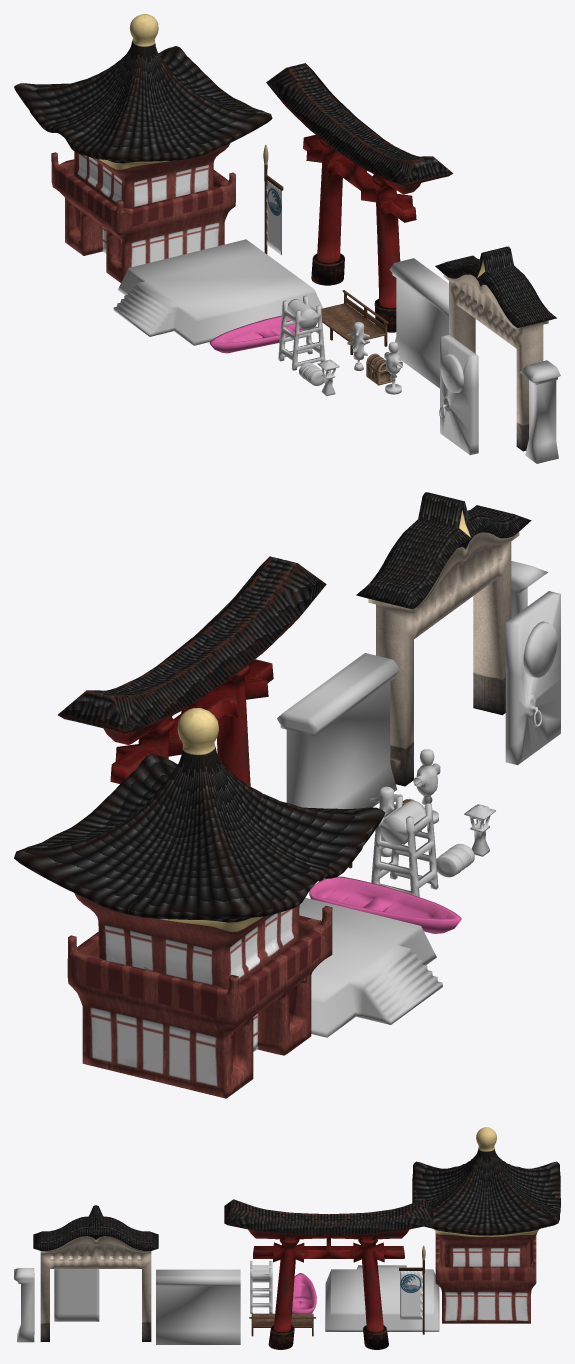
The model's file is EnvironmentProps.fbx.
The picture shows the model from 3 angles, top to bottom: view 1: azimuth 30°, elevation 25°; view 2: azimuth 150°, elevation 25°; view 3: azimuth 270°, elevation 25°; orthographic projection. The views are drawn at different scales.
Parts seen in each view (by area): view 1: Shrine_LOW, Torii_LOW, Arena_LOW, Portal_LOW, Wall_LOW, Door_LOW, WallCorner_LOW, Target_LOW, Group16081, Boat_LOW, Cylinder_LOW.001, Dummy_LOW (+2 smaller); view 2: Shrine_LOW, Portal_LOW, Torii_LOW, Wall_LOW, Arena_LOW, Door_LOW, Target_LOW, Boat_LOW, WallCorner_LOW, Dummy_LOW, HayBale_LOW, Lantern_LOW; view 3: Shrine_LOW, Torii_LOW, Portal_LOW, Wall_LOW, Arena_LOW, Door_LOW, Cylinder_LOW.001, WallCorner_LOW, Target_LOW, Boat_LOW, Group16081.
Part boxes in pixels (x1,y1,x2,y2): Shrine_LOW: [14, 14, 272, 282]; Torii_LOW: [266, 63, 452, 332]; Arena_LOW: [113, 239, 322, 345]; Portal_LOW: [435, 246, 556, 451]; Wall_LOW: [389, 258, 448, 388]; Door_LOW: [439, 334, 478, 455]; WallCorner_LOW: [519, 360, 560, 463]; Target_LOW: [278, 295, 325, 370]; Group16081: [321, 290, 388, 354]; Boat_LOW: [209, 315, 312, 353]; Cylinder_LOW.001: [263, 144, 283, 255]; Dummy_LOW: [384, 342, 402, 394]; Shrine_LOW: [14, 708, 385, 1098]; Portal_LOW: [356, 492, 531, 786]; Torii_LOW: [58, 556, 326, 786]; Wall_LOW: [277, 653, 400, 808]; Arena_LOW: [299, 897, 442, 1037]; Door_LOW: [505, 591, 560, 765]; Target_LOW: [371, 796, 438, 896]; Boat_LOW: [309, 876, 461, 933]; WallCorner_LOW: [511, 561, 547, 617]; Dummy_LOW: [413, 749, 440, 823]; HayBale_LOW: [436, 843, 474, 877]; Lantern_LOW: [464, 804, 495, 856]; Shrine_LOW: [412, 1127, 560, 1323]; Torii_LOW: [224, 1199, 433, 1349]; Portal_LOW: [33, 1205, 158, 1341]; Wall_LOW: [156, 1269, 240, 1344]; Arena_LOW: [325, 1265, 439, 1331]; Door_LOW: [54, 1269, 99, 1321]; Cylinder_LOW.001: [399, 1245, 425, 1334]; WallCorner_LOW: [14, 1268, 34, 1342]; Target_LOW: [250, 1261, 272, 1313]; Boat_LOW: [292, 1273, 316, 1313]; Group16081: [249, 1313, 315, 1336].
Bounding box in the file's own units: 30402 × 31584 × 88010.
